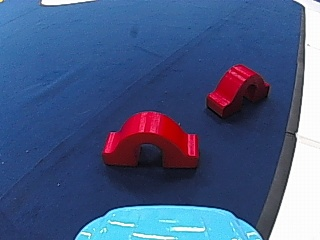bridge: (98, 106, 204, 167), (204, 61, 270, 118)
